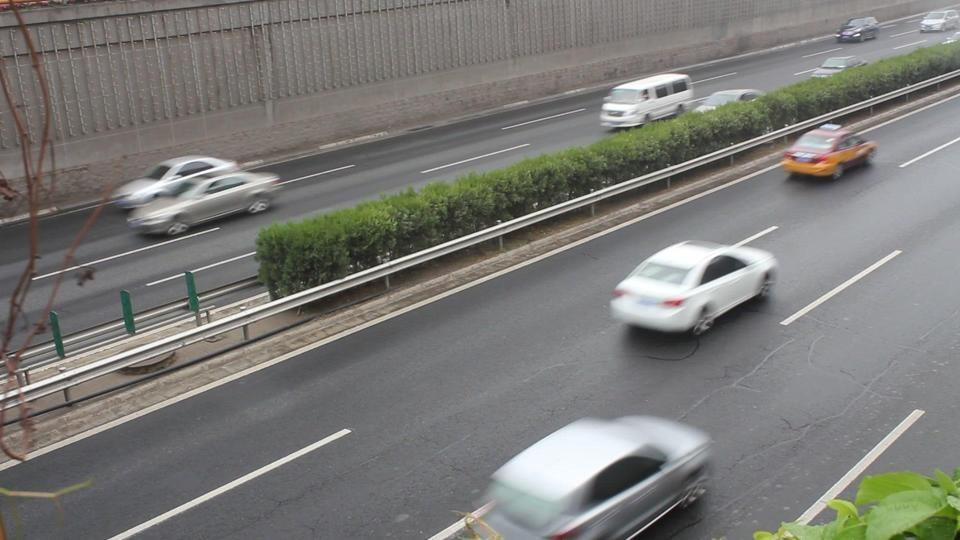car: (449, 414, 716, 538), (609, 239, 778, 338), (125, 166, 285, 239), (109, 156, 237, 212), (781, 120, 879, 180), (599, 72, 693, 131), (836, 15, 880, 42), (919, 8, 960, 33)
